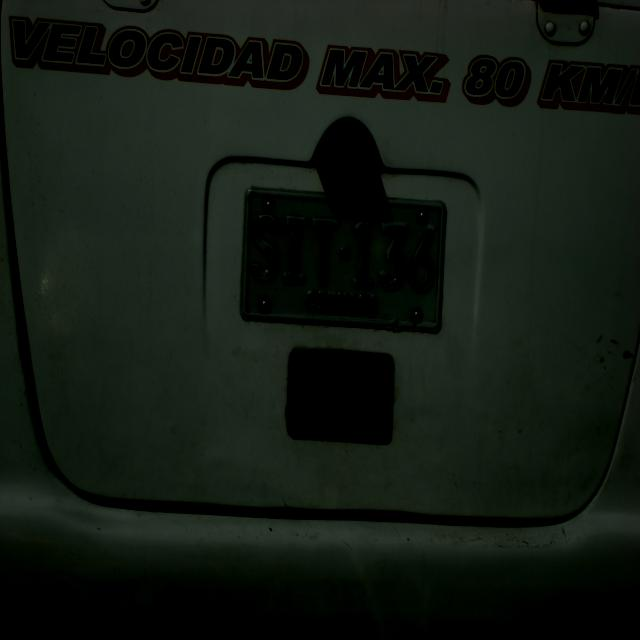placa: (236, 171, 451, 340)
